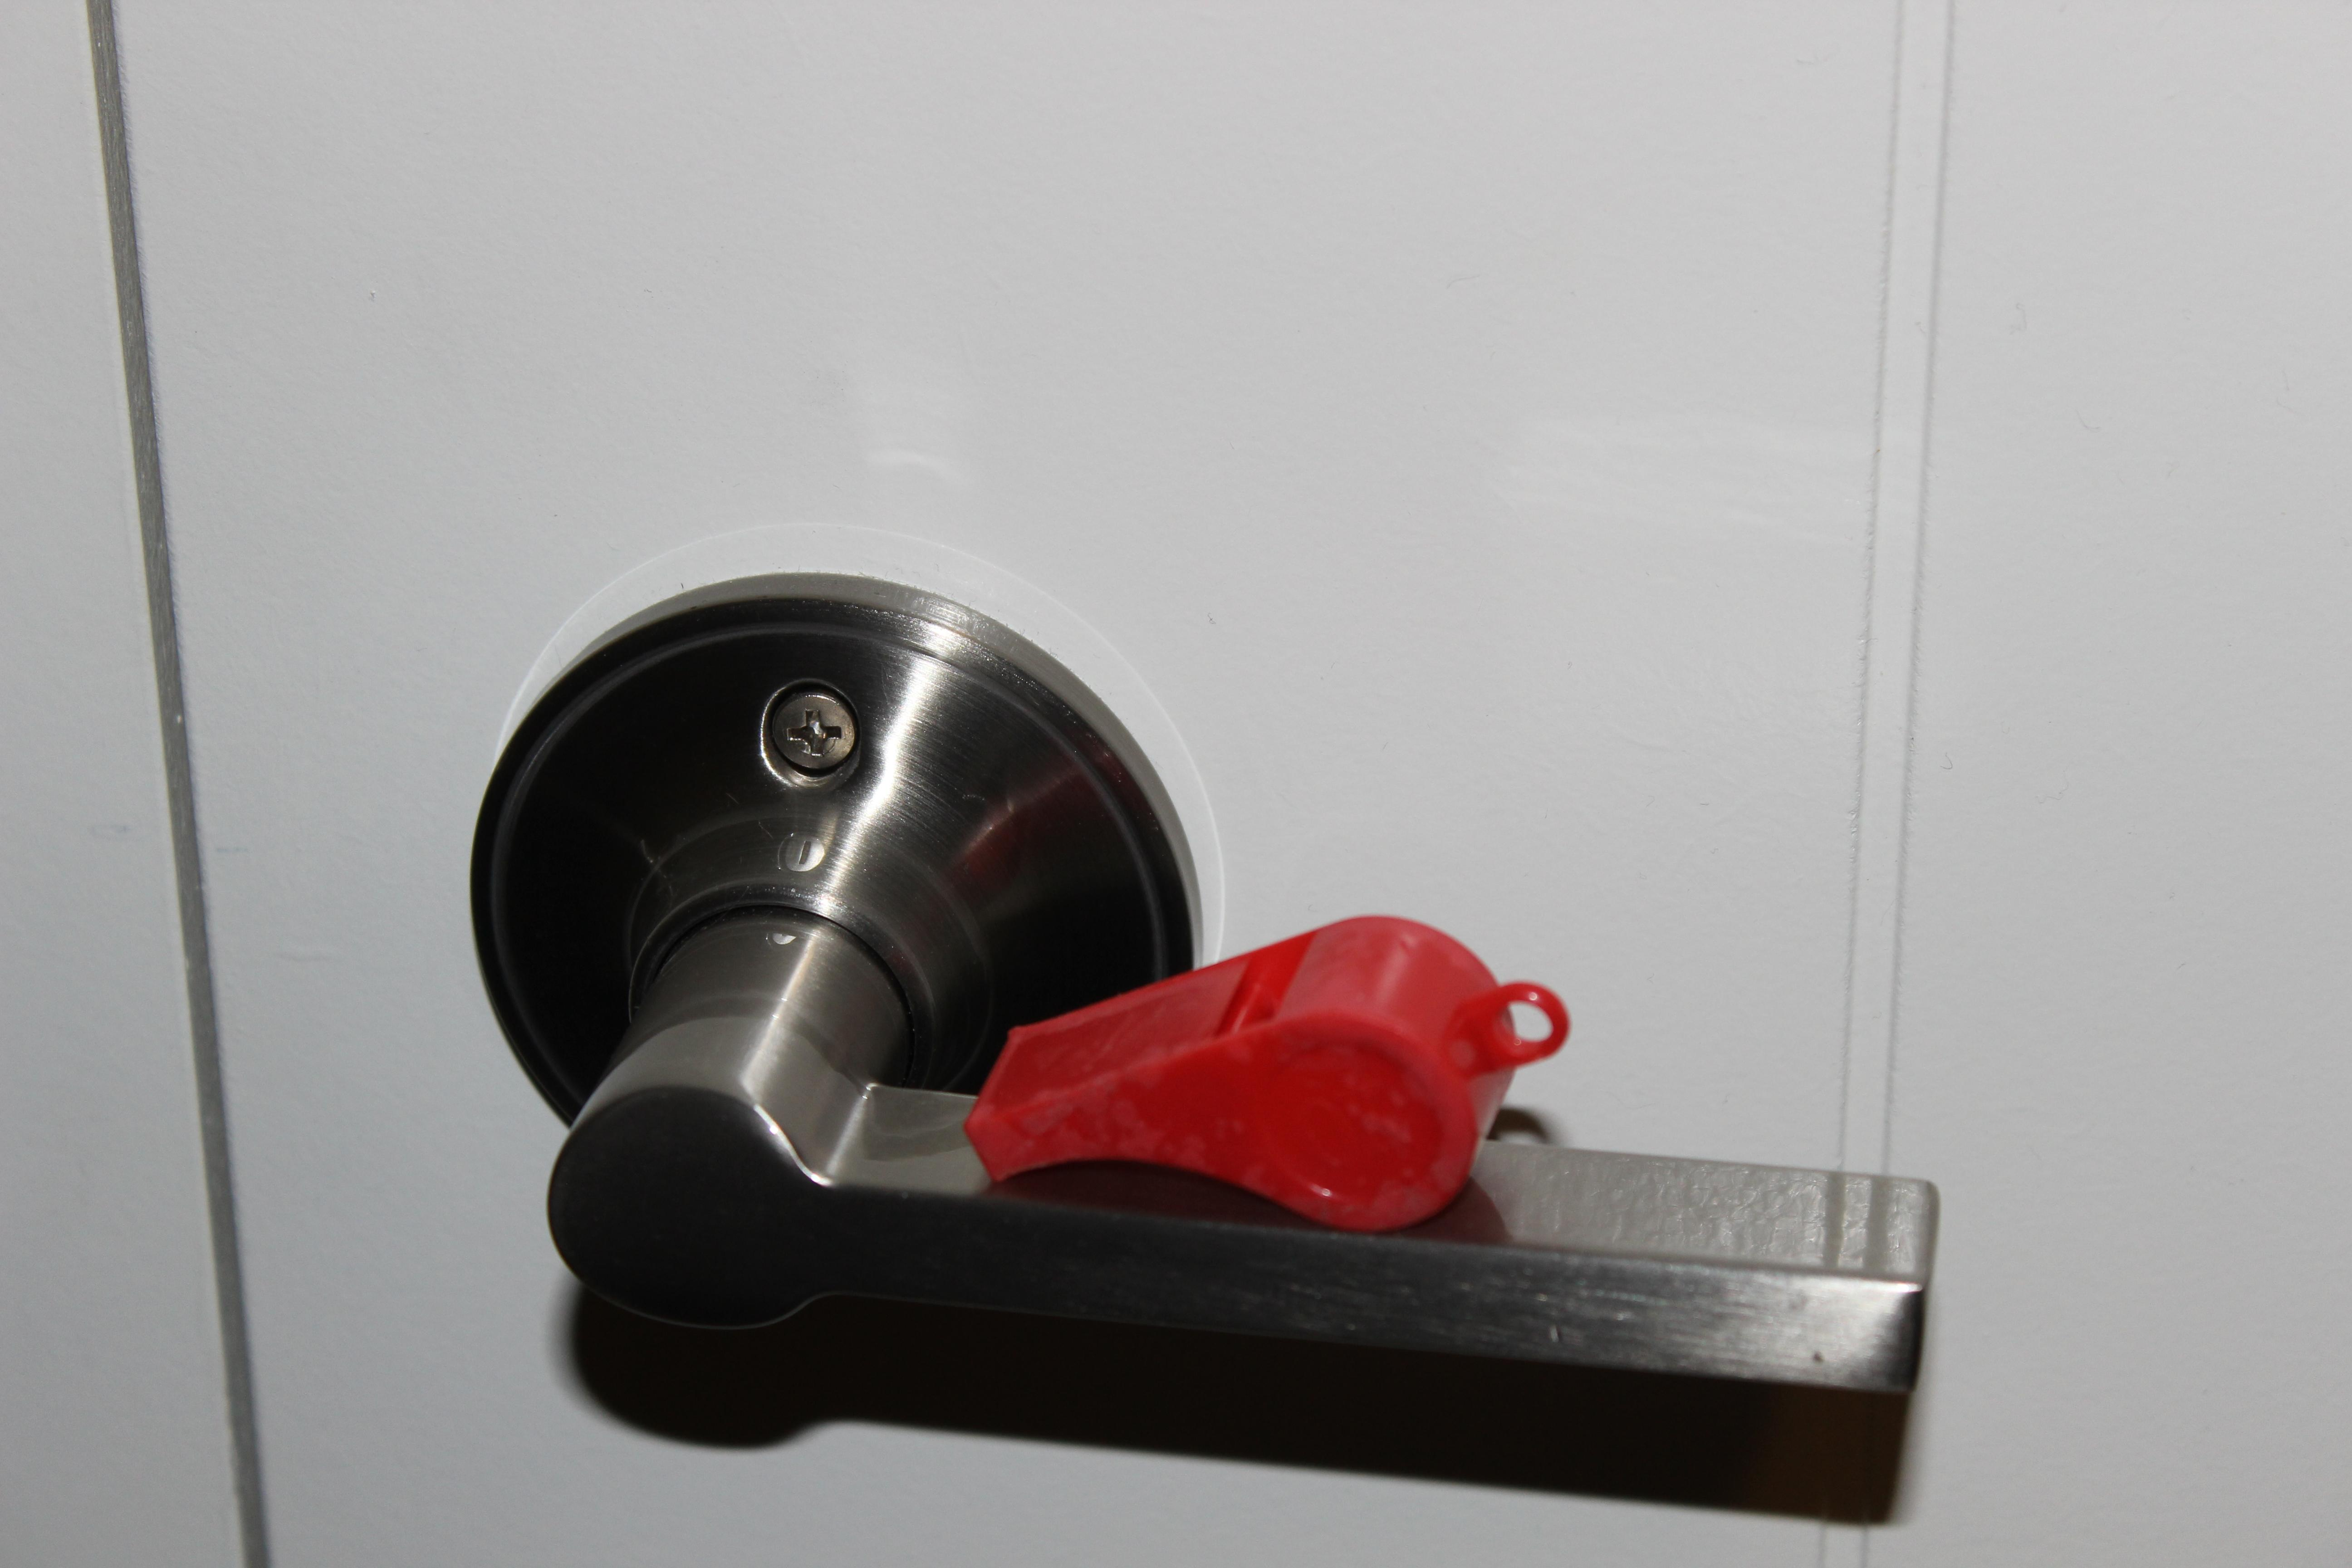redWhistle: (947, 887, 1594, 1277)
